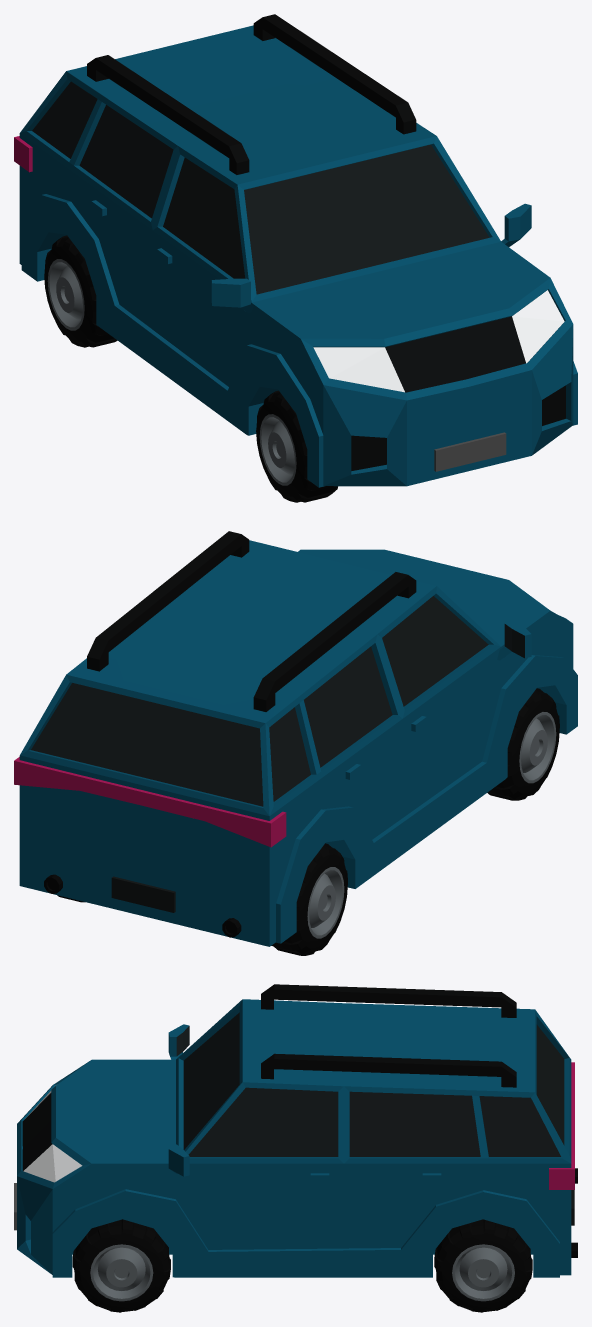
The model's file is SUV.fbx.
3 views of the same model, one above another, from view 1: azimuth 30°, elevation 25°; view 2: azimuth 150°, elevation 25°; view 3: azimuth 270°, elevation 25° (orthographic). The views are drawn at different scales.
Visible parts, largest first — view 1: FrontWheel_R; view 2: FrontWheel_R; view 3: FrontWheel_R.
Boxes of the visible parts, box(x1,y1,x2,y2) form: FrontWheel_R: box(14, 14, 577, 502); FrontWheel_R: box(14, 531, 577, 955); FrontWheel_R: box(14, 984, 577, 1312).
Size of the model in its own units: 422 by 756 by 354.
Materials: 1 (1 with a texture image).
